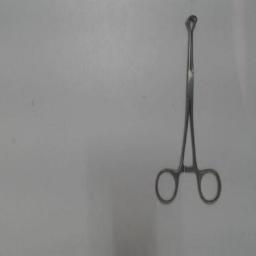Babcock Tissue Forceps: (153, 12, 223, 208)
